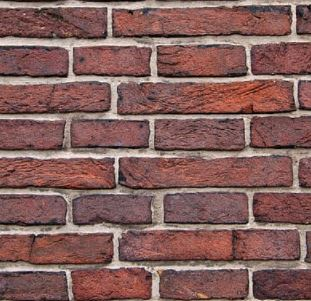brick: (117, 82, 296, 114), (112, 7, 294, 36), (118, 158, 293, 186), (120, 231, 232, 267), (1, 81, 111, 113), (1, 232, 114, 263), (1, 7, 109, 38), (1, 159, 116, 188), (159, 266, 250, 301), (156, 43, 249, 77), (155, 118, 246, 152), (72, 44, 154, 77), (73, 267, 153, 299), (72, 194, 159, 223), (70, 118, 150, 149), (160, 193, 248, 221), (1, 44, 70, 79), (252, 42, 311, 76), (1, 119, 65, 150), (232, 231, 302, 259), (1, 270, 68, 299), (251, 115, 310, 147), (253, 192, 311, 224), (252, 269, 311, 299), (1, 196, 69, 222)
